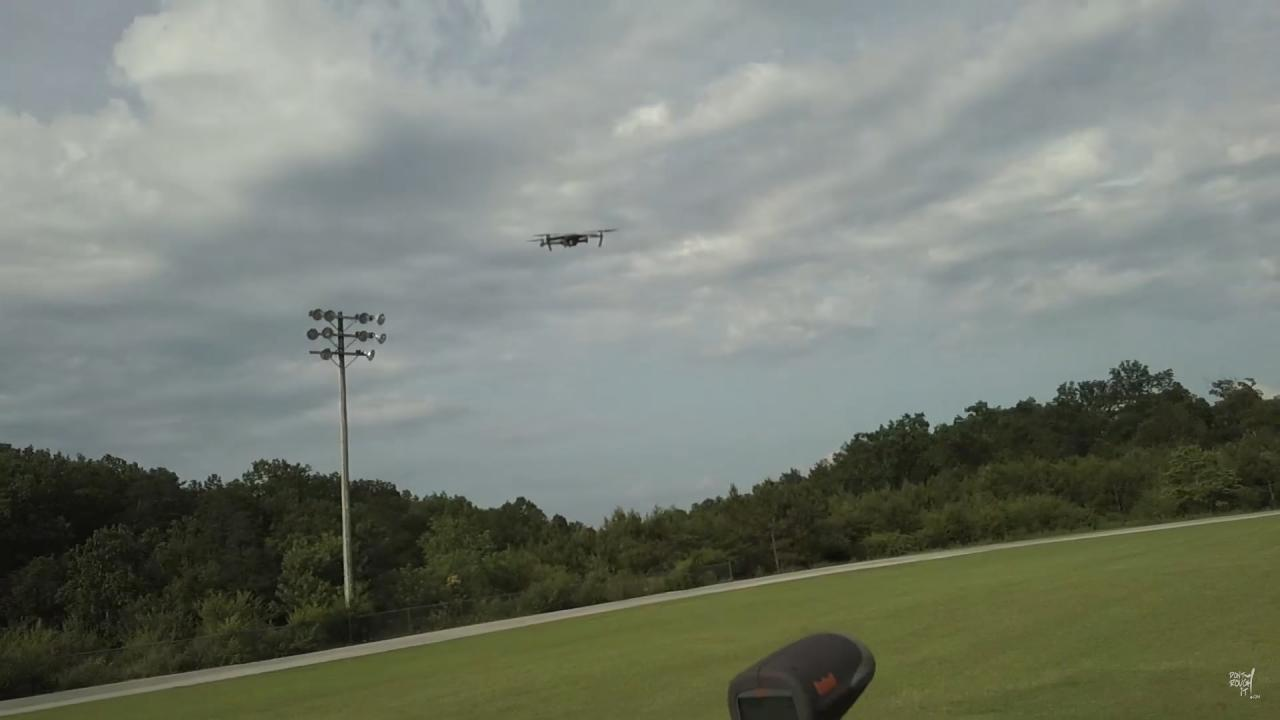Drone: (516, 219, 623, 259)
